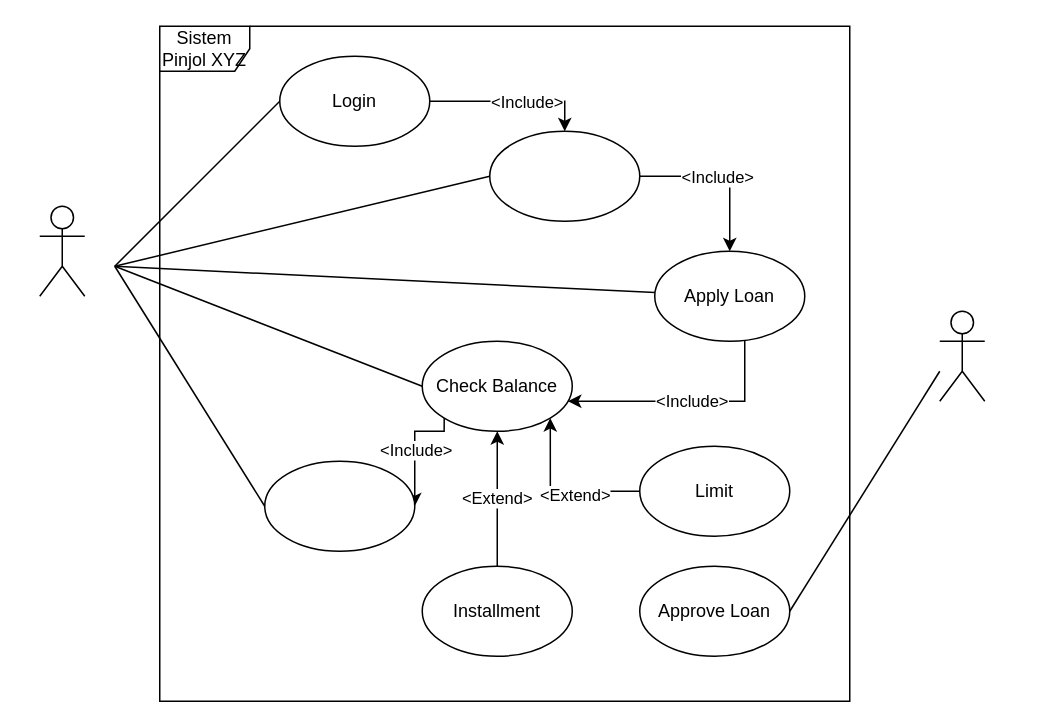
This 1043x728 diagram has some shape labels left out. The shapes that lost their labels are listed below. From the top down, each one's box as (x1, y1, x2, y2) in pixels, then its label:
(488, 130, 640, 221): Register
(38, 205, 85, 296): Nasabah
(938, 310, 985, 401): Pegawai XYZ
(263, 460, 415, 551): Settlement to Bank Account
